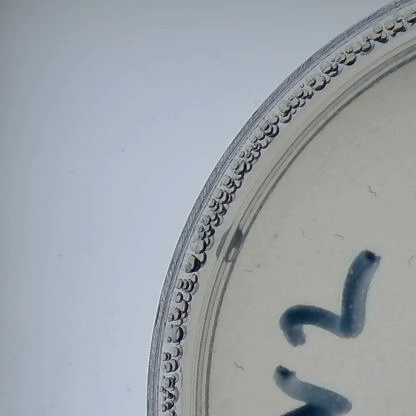worm: (238, 257, 266, 276), (232, 357, 251, 372), (331, 228, 351, 240), (402, 254, 416, 270), (366, 184, 381, 198), (296, 224, 312, 237)
